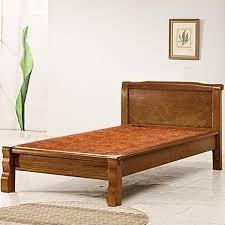Bed-Mattress: (3, 75, 225, 208)
